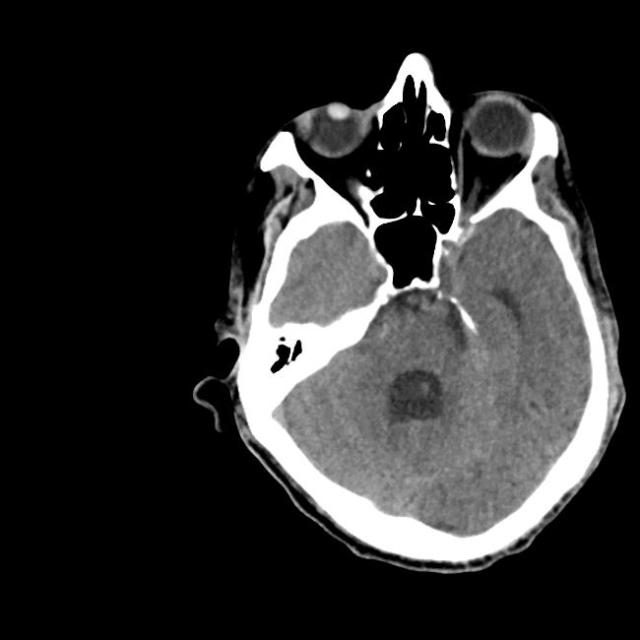lesion: (194, 51, 626, 575)
